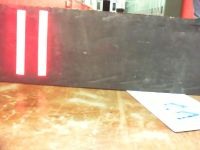switch: (16, 9, 26, 76), (38, 10, 48, 77)
